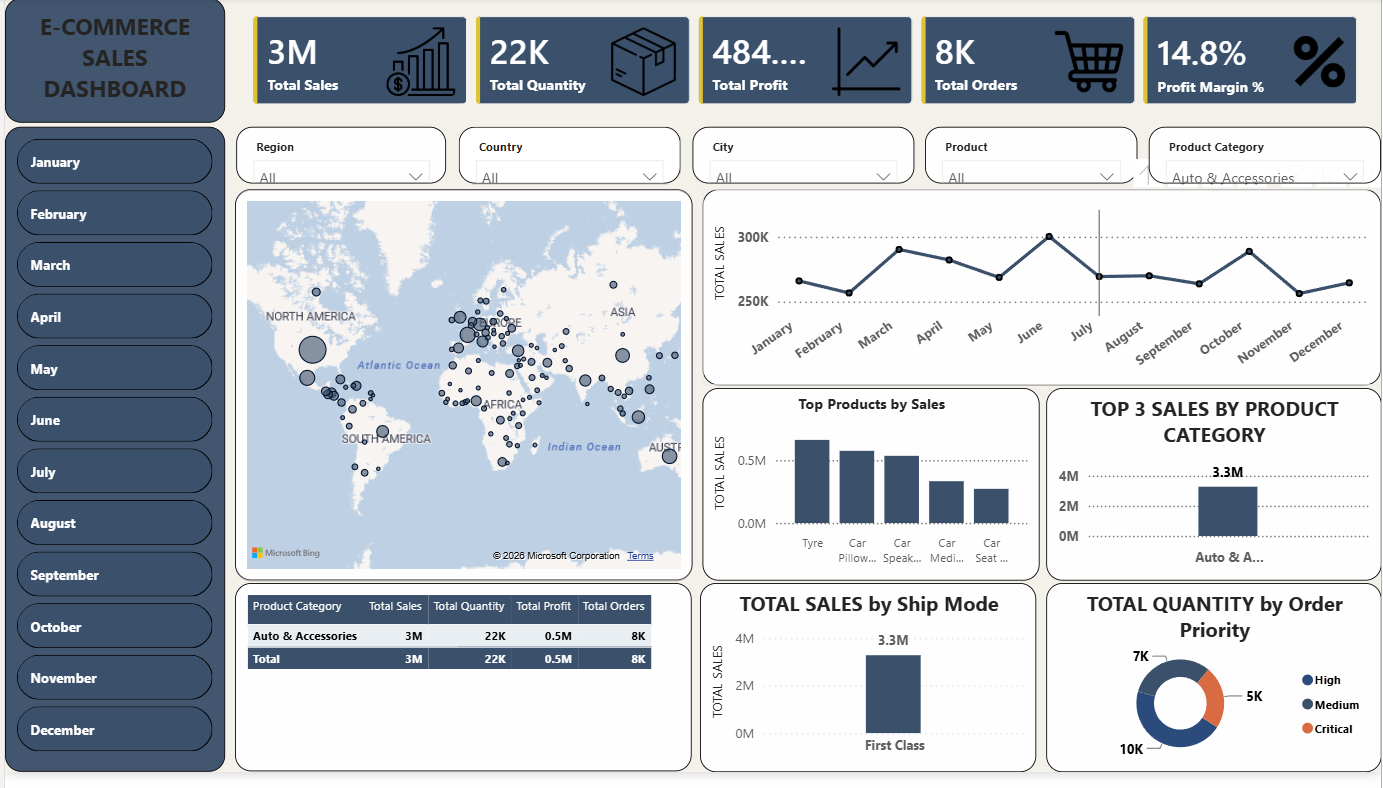

What the dashboard file says about the page in this screenshot:
{"tool":"powerbi","page":{"name":"Page 1","canvas":[1280,720],"ordinal":0},"visuals":[{"type":"textbox","box":[9.6,0,194.9,116.6],"z":0},{"type":"advancedSlicerVisual","fields":{"Values":["E-COMMERCE DATA.Order Date.Variation.Date Hierarchy.Month"]},"box":[0,122.1,204.7,597.7],"z":1000},{"type":"slicer","fields":{"Values":["E-COMMERCE DATA.Region"]},"box":[215.6,120,195.5,53],"z":2000},{"type":"slicer","fields":{"Values":["E-COMMERCE DATA.Country"]},"box":[427.5,120.1,206.2,52.9],"z":3000},{"type":"slicer","fields":{"Values":["E-COMMERCE DATA.City"]},"box":[639.5,120.1,206.1,53],"z":4000},{"type":"slicer","fields":{"Values":["E-COMMERCE DATA.Product"]},"box":[856.2,120.1,197.8,52.9],"z":5000},{"type":"columnChart","fields":{"Category":["E-COMMERCE DATA.Ship Mode"],"Y":["E-COMMERCE DATA.TOTAL SALES"]},"box":[649.2,544.7,313.5,175.5],"z":6000},{"type":"pieChart","fields":{"Category":["E-COMMERCE DATA.Order Priority"],"Y":["E-COMMERCE DATA.TOTAL QUANTITY"]},"box":[968.8,544.8,311.5,175.6],"z":7000},{"type":"lineChart","fields":{"Category":["E-COMMERCE DATA.Order Date.Variation.Date Hierarchy.Month","E-COMMERCE DATA.Order Date.Variation.Date Hierarchy.Day"],"Y":["E-COMMERCE DATA.TOTAL SALES"]},"box":[649.2,178.3,631.1,182.5],"z":8000},{"type":"tableEx","fields":{"Values":["E-COMMERCE DATA.Product Category","E-COMMERCE DATA.TOTAL SALES","E-COMMERCE DATA.TOTAL QUANTITY","E-COMMERCE DATA.TOTAL PROFIT","E-COMMERCE DATA.TOTAL ORDERS"]},"box":[215.9,544.7,423.5,175.5],"z":9000},{"type":"clusteredColumnChart","title":"TOP 3 SALES BY PRODUCT CATEGORY ","fields":{"Category":["E-COMMERCE DATA.Product Category"],"Y":["E-COMMERCE DATA.TOTAL SALES"]},"box":[969.3,365.1,310.9,174.3],"z":10000},{"type":"map","fields":{"Category":["E-COMMERCE DATA.Country"],"Size":["CountNonNull(E-COMMERCE DATA.City)"]},"box":[214.5,178.3,424.9,360.8],"z":12000},{"type":"slicer","fields":{"Values":["E-COMMERCE DATA.Product Category"]},"box":[1064.7,120.1,215.9,52.9],"z":13000},{"type":"scatterChart","title":"Discount vs Profit – Top 10 Products","fields":{"Category":["E-COMMERCE DATA.Product"],"X":["E-COMMERCE DATA.AVERAGE DISCOUNT"],"Y":["E-COMMERCE DATA.TOTAL PROFIT"]},"box":[649,362.8,313.3,179],"z":14000},{"type":"cardVisual","fields":{"Data":["E-COMMERCE DATA.TOTAL SALES","E-COMMERCE DATA.TOTAL QUANTITY","E-COMMERCE DATA.TOTAL PROFIT","E-COMMERCE DATA.TOTAL ORDERS","E-COMMERCE DATA.PROFIT MARGIN %"]},"box":[214.4,0,1065.9,116.6],"z":15000}]}

Visuals, with their boxes in screenshot pixels (x1, y1, x2, y2), scaled from the page's 1280x720 canvas onto the 1383x788 screenshot:
textbox: {"x1": 10, "y1": 0, "x2": 221, "y2": 128}
advancedSlicerVisual - E-COMMERCE DATA.Order Date.Variation.Date Hierarchy.Month: {"x1": 0, "y1": 134, "x2": 221, "y2": 787}
slicer - E-COMMERCE DATA.Region: {"x1": 233, "y1": 131, "x2": 444, "y2": 189}
slicer - E-COMMERCE DATA.Country: {"x1": 462, "y1": 131, "x2": 685, "y2": 189}
slicer - E-COMMERCE DATA.City: {"x1": 691, "y1": 131, "x2": 914, "y2": 189}
slicer - E-COMMERCE DATA.Product: {"x1": 925, "y1": 131, "x2": 1139, "y2": 189}
columnChart - E-COMMERCE DATA.Ship Mode x E-COMMERCE DATA.TOTAL SALES: {"x1": 701, "y1": 596, "x2": 1040, "y2": 787}
pieChart - E-COMMERCE DATA.Order Priority x E-COMMERCE DATA.TOTAL QUANTITY: {"x1": 1047, "y1": 596, "x2": 1382, "y2": 787}
lineChart - E-COMMERCE DATA.Order Date.Variation.Date Hierarchy.Month x E-COMMERCE DATA.Order Date.Variation.Date Hierarchy.Day: {"x1": 701, "y1": 195, "x2": 1382, "y2": 395}
tableEx - E-COMMERCE DATA.Product Category x E-COMMERCE DATA.TOTAL SALES: {"x1": 233, "y1": 596, "x2": 691, "y2": 787}
"TOP 3 SALES BY PRODUCT CATEGORY " clusteredColumnChart: {"x1": 1047, "y1": 400, "x2": 1382, "y2": 590}
map - E-COMMERCE DATA.Country x CountNonNull(E-COMMERCE DATA.City): {"x1": 232, "y1": 195, "x2": 691, "y2": 590}
slicer - E-COMMERCE DATA.Product Category: {"x1": 1150, "y1": 131, "x2": 1382, "y2": 189}
"Discount vs Profit – Top 10 Products" scatterChart: {"x1": 701, "y1": 397, "x2": 1040, "y2": 593}
cardVisual - E-COMMERCE DATA.TOTAL SALES x E-COMMERCE DATA.TOTAL QUANTITY: {"x1": 232, "y1": 0, "x2": 1382, "y2": 128}
